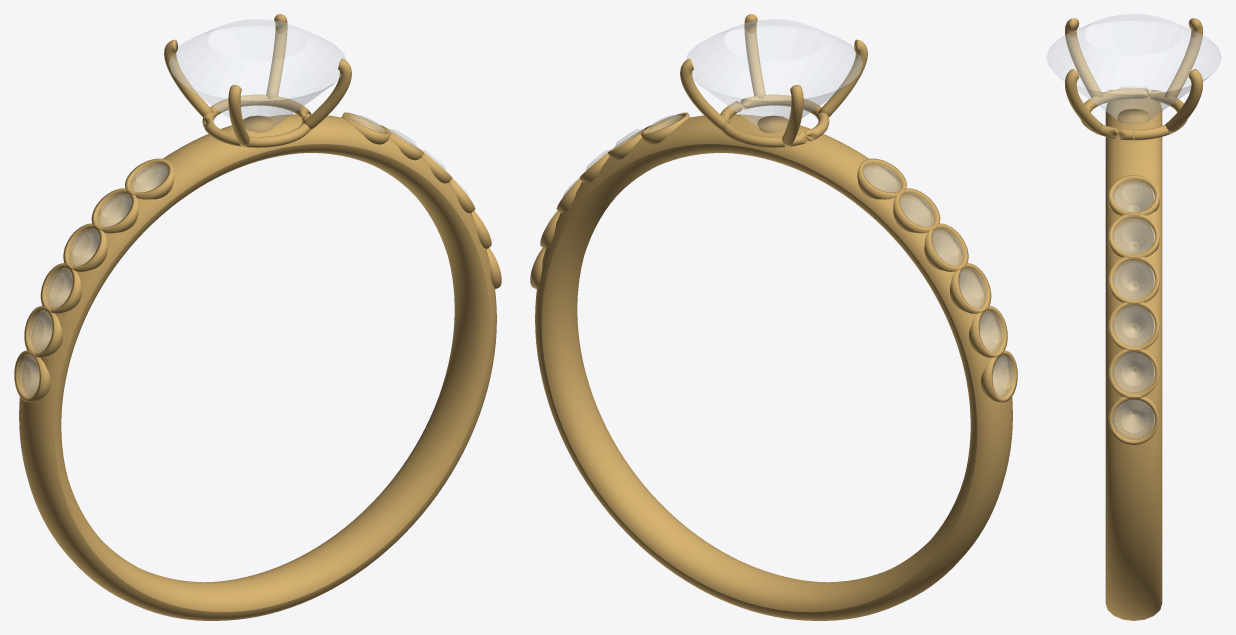
The model's file is accents-bezel-accents.glb.
3 renders of one model, left to right at view 1: azimuth 30°, elevation 25°; view 2: azimuth 150°, elevation 25°; view 3: azimuth 270°, elevation 25°, orthographic.
Parts seen in each view (by area): view 1: Band, Gem, Lower gallery, Prong.001, Prong, Accent bezel.002, Prong.003, Accent bezel.003, Accent bezel, Accent bezel.001, Accent bezel.004, Accent bezel.005 (+8 smaller); view 2: Band, Gem, Lower gallery, Prong.002, Prong.003, Accent bezel.002, Prong, Accent bezel.003, Accent bezel, Accent bezel.001, Accent bezel.004, Accent bezel.005 (+8 smaller); view 3: Band, Gem, Lower gallery, Gem.011, Gem.010, Gem.012, Gem.009, Gem.008, Gem.007, Prong.001, Prong.002, Prong (+8 smaller).
Boxes of the visible parts, x1,y1,x2,y2 form: Band: (19,114,496,620); Gem: (169,19,345,131); Lower gallery: (202,94,311,147); Prong.001: (164,39,213,116); Prong: (266,14,287,98); Accent bezel.002: (63,223,107,271); Prong.003: (302,58,351,130); Accent bezel.003: (40,263,81,313); Accent bezel: (125,158,174,199); Accent bezel.001: (91,188,138,233); Accent bezel.004: (24,306,62,357); Accent bezel.005: (14,350,51,402); Band: (535,114,1012,620); Gem: (686,19,862,131); Lower gallery: (720,94,829,147); Prong.002: (818,39,867,116); Prong.003: (744,14,765,98); Accent bezel.002: (924,223,968,271); Prong: (680,58,729,130); Accent bezel.003: (950,263,991,313); Accent bezel: (857,158,906,199); Accent bezel.001: (893,188,940,233); Accent bezel.004: (969,306,1007,357); Accent bezel.005: (980,350,1017,402); Band: (1105,96,1162,620); Gem: (1046,14,1221,123); Lower gallery: (1080,88,1187,140); Gem.011: (1113,352,1154,393); Gem.010: (1113,305,1154,346); Gem.012: (1113,399,1154,439); Gem.009: (1113,260,1154,299); Gem.008: (1113,218,1154,254); Gem.007: (1113,180,1154,211); Prong.001: (1164,18,1202,97); Prong.002: (1065,18,1103,97); Prong: (1165,69,1202,134).
Bounding box in the file's own units: 19.79 × 22.94 × 6.5.
